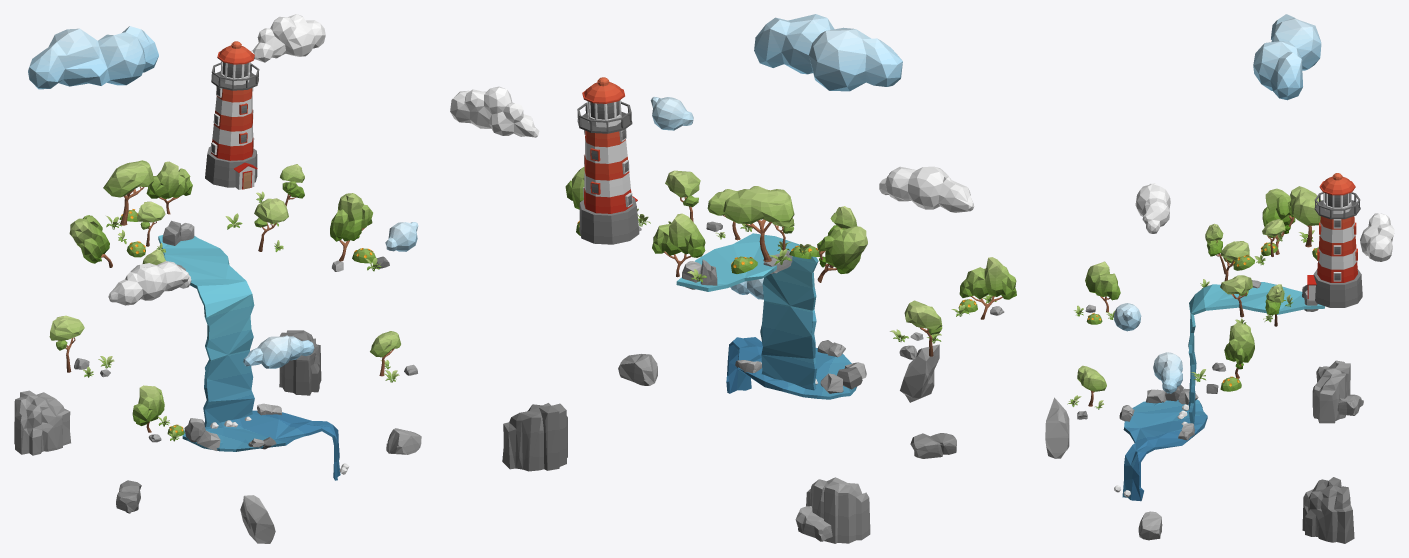
Rendered from cliff_lighthouse.glb.
The picture shows the model from 3 angles, left to right: view 1: azimuth 30°, elevation 25°; view 2: azimuth 150°, elevation 25°; view 3: azimuth 270°, elevation 25°; orthographic projection. The views are drawn at different scales.
Visible parts, largest first — view 1: waterfall 9_64, cloud 4_65, lighthouse 2_3, waterfall 10_31, stone large_1, cloud 5_10, cloud 3_35, stone large 2_24, tree 2_5, cloud 2_2, tree_60, tree 2 (1)_54 (+11 smaller); view 2: waterfall 9_64, lighthouse 2_3, cloud 4_65, stone large 2_24, waterfall 10_31, stone large_1, cloud 3_35, cloud 5_10, tree_60, tree 2 (1)_54, tree 3 (1)_20, tree 3_61 (+7 smaller); view 3: lighthouse 2_3, cloud 4_65, waterfall 10_31, waterfall 9_64, stone large 2_24, stone large_1, cloud 3_35, cloud 5_10, stone small 10 (2)_27, tree 2_5, tree_60, tree 3 (1)_20 (+10 smaller).
Part boxes in pixels (left/top/right/bottom): waterfall 9_64: left=158, top=235, right=254, bottom=427; cloud 4_65: left=28, top=26, right=158, bottom=89; lighthouse 2_3: left=205, top=41, right=259, bottom=189; waterfall 10_31: left=182, top=410, right=340, bottom=480; stone large_1: left=14, top=390, right=70, bottom=455; cloud 5_10: left=250, top=14, right=325, bottom=62; cloud 3_35: left=108, top=261, right=191, bottom=305; stone large 2_24: left=279, top=330, right=321, bottom=395; tree 2_5: left=330, top=193, right=372, bottom=261; cloud 2_2: left=243, top=335, right=314, bottom=368; tree_60: left=103, top=160, right=153, bottom=225; tree 2 (1)_54: left=69, top=215, right=112, bottom=267; waterfall 9_64: left=676, top=233, right=818, bottom=390; lighthouse 2_3: left=577, top=77, right=639, bottom=244; cloud 4_65: left=754, top=14, right=902, bottom=91; stone large 2_24: left=502, top=403, right=567, bottom=471; waterfall 10_31: left=726, top=337, right=856, bottom=399; stone large_1: left=806, top=477, right=870, bottom=543; cloud 3_35: left=879, top=166, right=974, bottom=212; cloud 5_10: left=450, top=86, right=539, bottom=137; tree_60: left=723, top=186, right=794, bottom=261; tree 2 (1)_54: left=817, top=226, right=867, bottom=282; tree 3 (1)_20: left=959, top=257, right=1016, bottom=319; tree 3_61: left=652, top=213, right=705, bottom=277; lighthouse 2_3: left=1307, top=173, right=1362, bottom=307; cloud 4_65: left=1253, top=14, right=1321, bottom=100; waterfall 10_31: left=1122, top=399, right=1207, bottom=501; waterfall 9_64: left=1188, top=282, right=1324, bottom=423; stone large 2_24: left=1302, top=477, right=1354, bottom=543; stone large_1: left=1312, top=360, right=1350, bottom=423; cloud 3_35: left=1135, top=183, right=1170, bottom=233; cloud 5_10: left=1360, top=213, right=1394, bottom=261; stone small 10 (2)_27: left=1045, top=397, right=1069, bottom=458; tree 2_5: left=1224, top=322, right=1254, bottom=378; tree_60: left=1289, top=186, right=1321, bottom=247; tree 3 (1)_20: left=1085, top=261, right=1120, bottom=312.
Size of the model in its own units: 19.96 by 23.68 by 18.4.
Materials: 1 (1 with a texture image).
